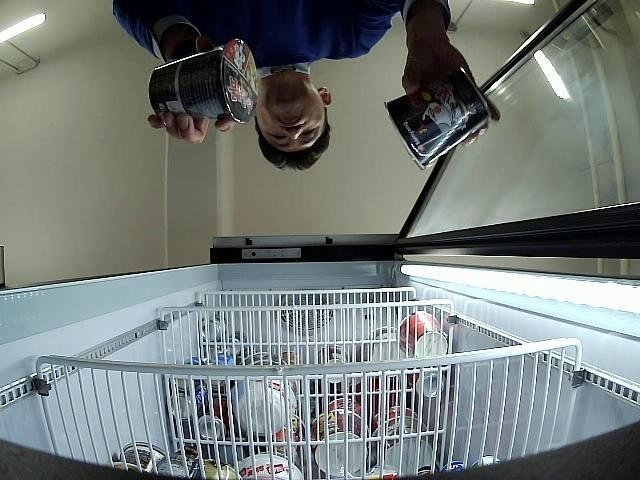08_buldak_S: (384, 70, 490, 170), (148, 40, 258, 124)
